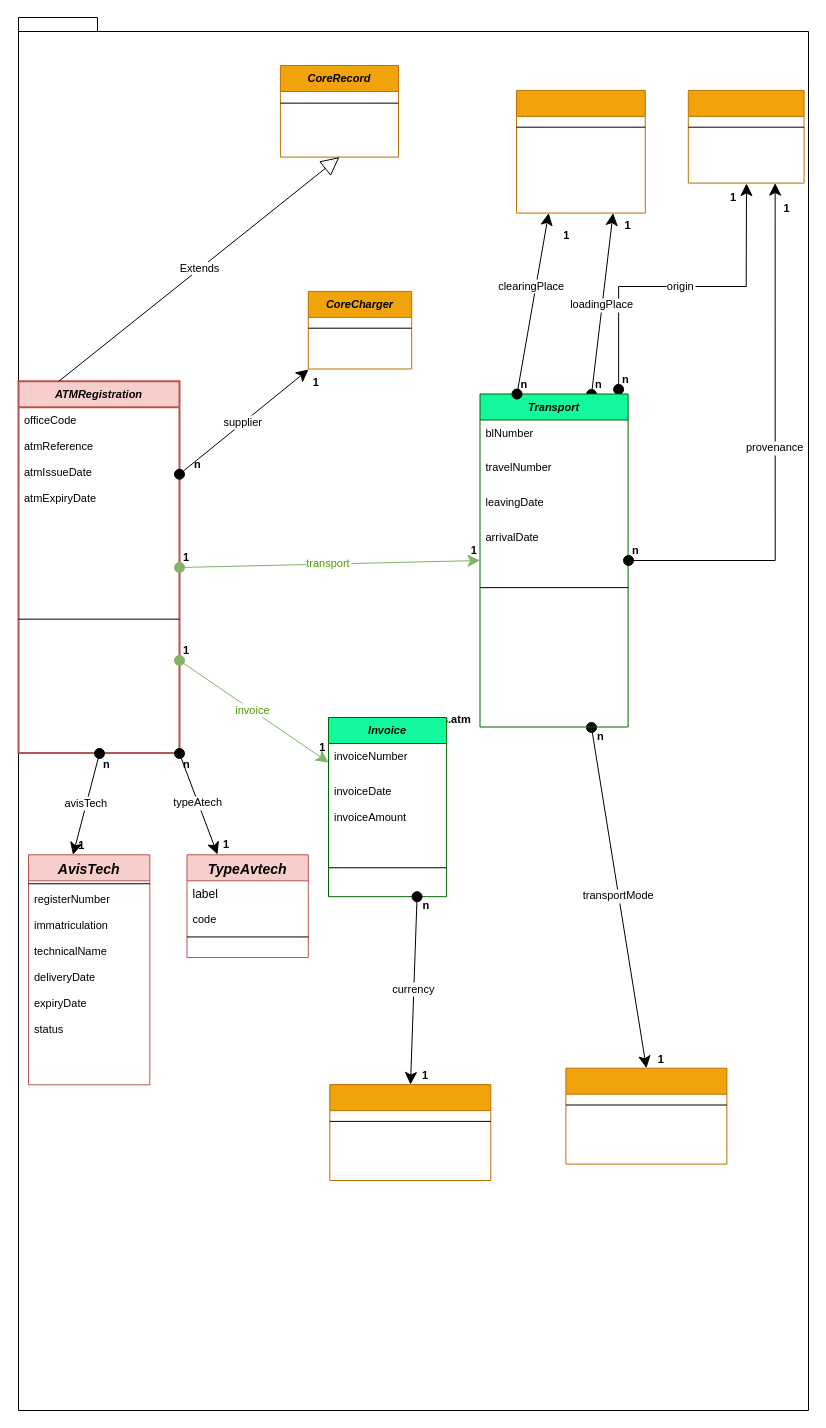
The diagram is 826 pixels wide and 1428 high, and some of its shapes have lost their labels. The shapes that lost their labels are listed below. From the top down, each one's centre as x and y in pixels, then its label:
At (x=580, y=151): "RepCustomsOffice".
At (x=745, y=136): "CorePays".
At (x=410, y=1132): "RepCurrency".
At (x=646, y=1115): "RepTransportMode".
